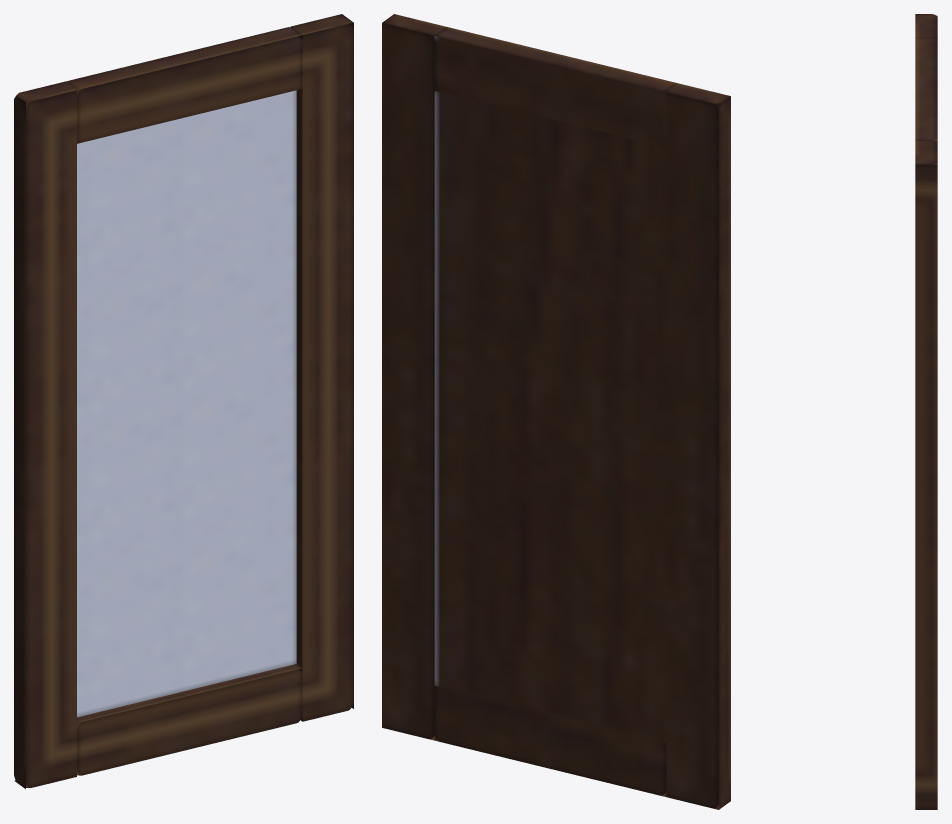
Rendered from tall_wall_mirror.obj.
3 views of the same model, side by side, from view 1: azimuth 30°, elevation 25°; view 2: azimuth 150°, elevation 25°; view 3: azimuth 270°, elevation 25° (orthographic). The views are drawn at different scales.
Visible parts, largest first — view 1: Mirror, Right, Left, Top, Bottom; view 2: Mirror, Right, Left, Top, Bottom; view 3: Left, Top, Right.
Part boxes in pixels (<box>): Mirror: <box>77,90,296,717</box>; Right: <box>14,81,76,788</box>; Left: <box>291,14,353,721</box>; Top: <box>65,26,302,143</box>; Bottom: <box>77,664,302,775</box>; Mirror: <box>434,91,666,741</box>; Right: <box>666,83,730,809</box>; Left: <box>382,14,446,740</box>; Top: <box>434,27,677,146</box>; Bottom: <box>434,685,666,796</box>; Left: <box>915,141,937,809</box>; Top: <box>915,37,937,140</box>; Right: <box>915,14,937,39</box>.
Bounding box in the file's own units: 1 × 2 × 0.5001.
